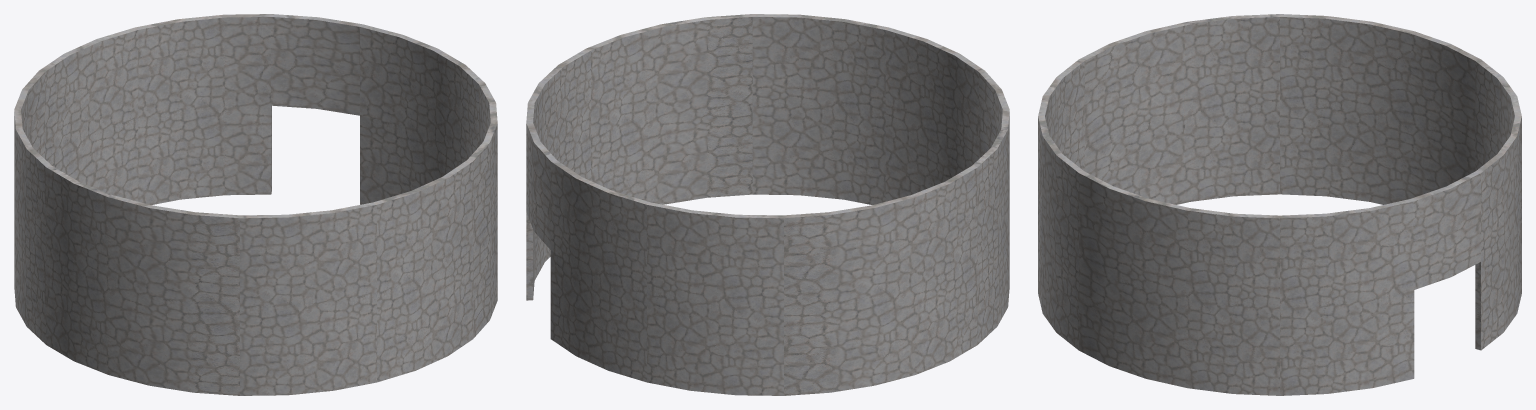
The model's file is Chimney wall.fbx.
3 views of the same model, side by side, from view 1: azimuth 30°, elevation 25°; view 2: azimuth 150°, elevation 25°; view 3: azimuth 270°, elevation 25° (orthographic).
Visible parts, largest first — view 1: polySurface206; view 2: polySurface206; view 3: polySurface206.
Part boxes in pixels (x1,y1,x2,y2): polySurface206: [14, 14, 497, 395]; polySurface206: [526, 14, 1009, 395]; polySurface206: [1038, 14, 1521, 395].
Size of the model in its own units: 0.9677 by 0.3918 by 0.9677.
